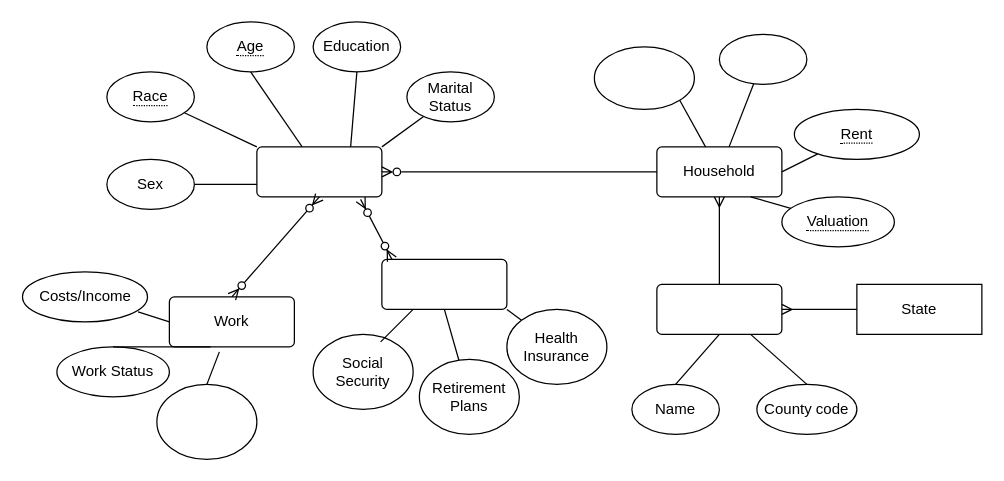
This 1004x481 diagram has some shape labels left out. Here are the shapes that lost their labels. From the top down, the centre of each, then its label:
[643,77]: Household Income
[762,58]: Property Size
[319,171]: People
[444,283]: Insurances and Benefits
[719,308]: Location (County)
[206,421]: Employee Statistics
